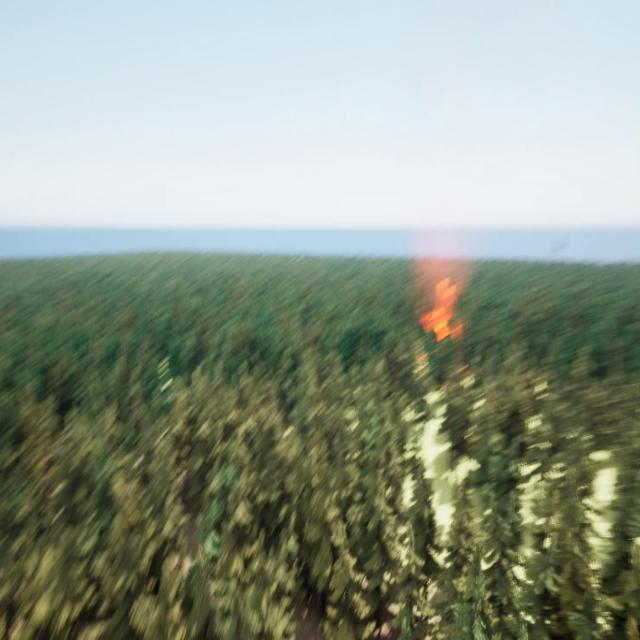fire: (418, 273, 466, 339)
smoke: (413, 224, 477, 292)
